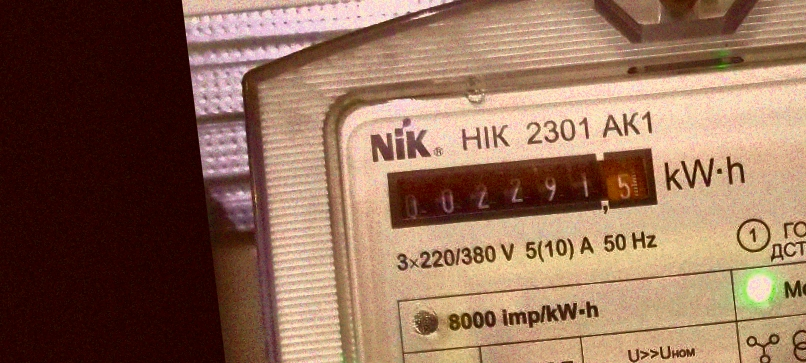0: (400, 188, 421, 219), (437, 183, 457, 214)
1: (575, 166, 593, 201)
2: (472, 179, 491, 210), (506, 173, 524, 204)
5: (614, 168, 633, 200)
9: (540, 171, 560, 203)
screen: (380, 134, 664, 242)
